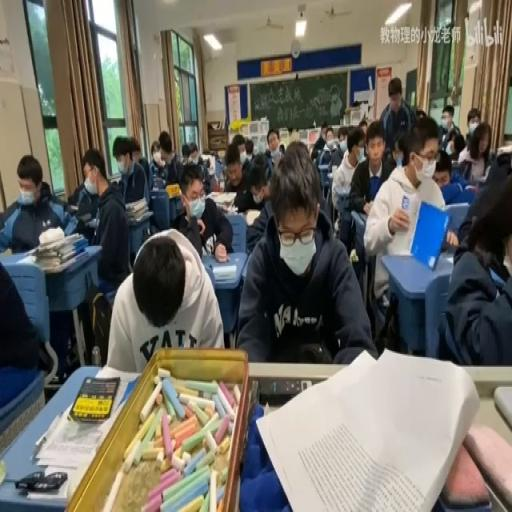calculator: (256, 343, 474, 509), (22, 470, 68, 500), (36, 230, 85, 254), (36, 250, 86, 273), (493, 384, 512, 437), (117, 377, 138, 409), (125, 196, 150, 220), (208, 190, 237, 210), (211, 263, 237, 280), (62, 212, 78, 235), (333, 182, 350, 199), (14, 252, 38, 264), (245, 209, 261, 225), (472, 174, 488, 189), (450, 158, 464, 175), (0, 246, 13, 259), (150, 176, 164, 188), (210, 255, 230, 263), (441, 253, 454, 265), (76, 212, 91, 222), (464, 184, 477, 194), (317, 160, 330, 170), (109, 176, 120, 186), (66, 203, 78, 212), (328, 168, 335, 176)
paper: (235, 144, 374, 366), (362, 112, 448, 322), (0, 154, 79, 376), (106, 229, 224, 373), (437, 162, 511, 367), (170, 161, 232, 259), (88, 254, 122, 366), (72, 148, 107, 239), (116, 135, 150, 209), (223, 141, 256, 212), (456, 120, 491, 180), (154, 130, 184, 189), (440, 104, 462, 155), (310, 118, 330, 161), (330, 126, 350, 166), (196, 151, 214, 193), (432, 149, 451, 188), (266, 128, 283, 169), (216, 149, 230, 188), (392, 132, 407, 166), (283, 138, 303, 154), (494, 146, 510, 166), (466, 108, 480, 127), (244, 138, 254, 161), (358, 118, 367, 141), (209, 148, 219, 163), (181, 142, 190, 158), (132, 149, 141, 162), (150, 148, 158, 162), (414, 106, 425, 116), (278, 142, 285, 156), (326, 134, 333, 142)
person: (69, 376, 120, 422)
